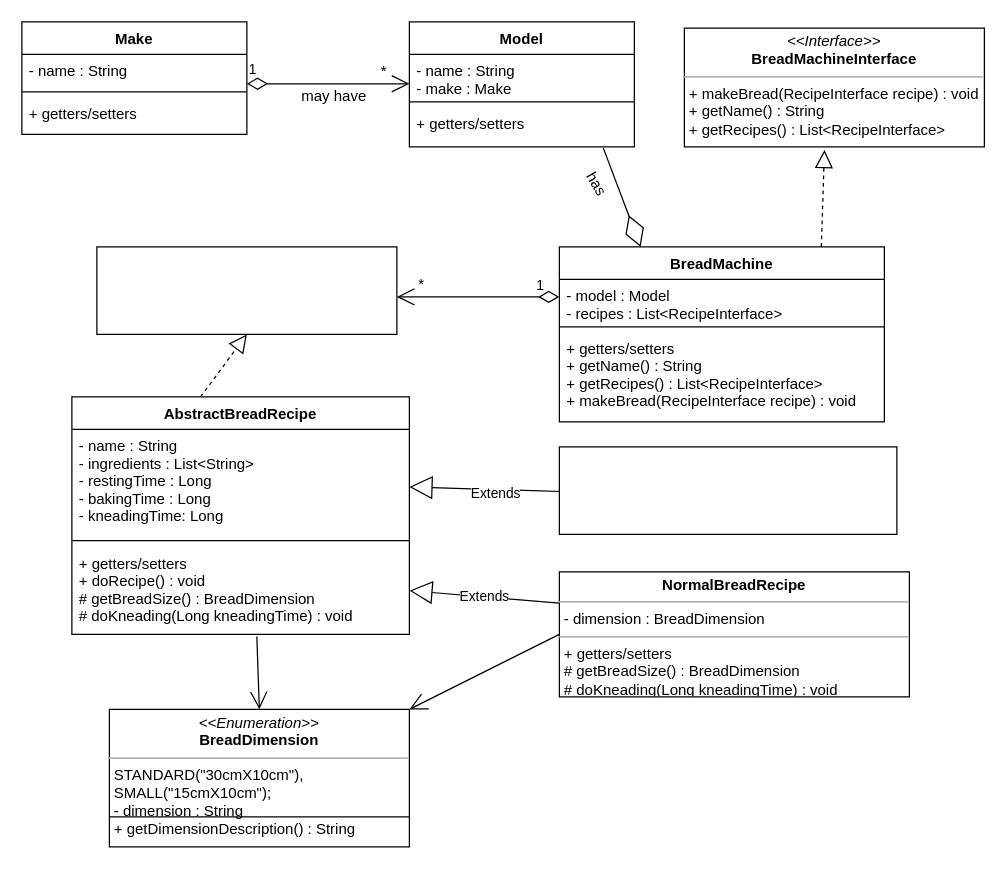
Some shapes in this 1006 by 879 pixel diagram are drawn without their labels. The shapes that lost their labels are listed below. From the top down, each one's centre as x and y in pixels, then its label:
At pixel 246 290: "<<Interface>> BreadRecipeInterface + doRecipe() : void".
At pixel 727 490: "CakeBreadRecipe # doKneading(Long kneadingTime) : void".
